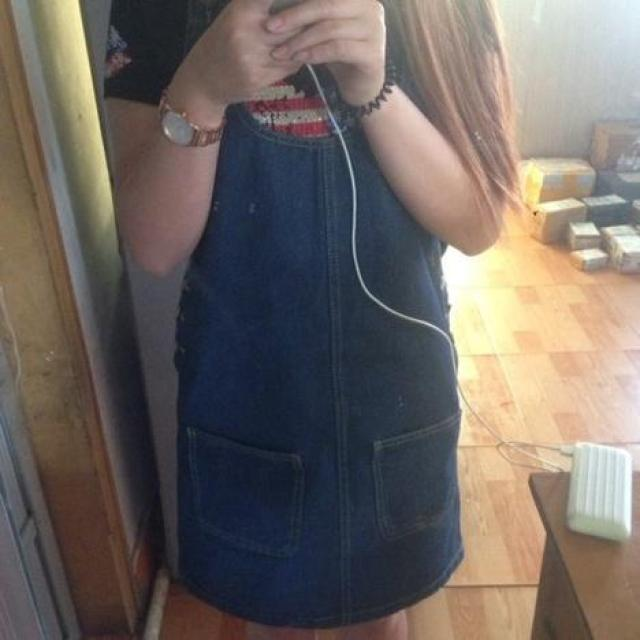short sleeve top: (105, 3, 507, 331)
vest dress: (178, 1, 464, 628)
